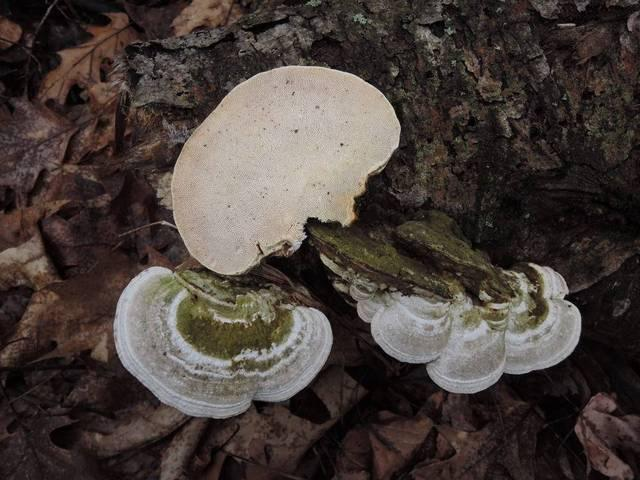poisonous_mushroom: (169, 63, 402, 276), (111, 263, 334, 419), (364, 256, 581, 403)
